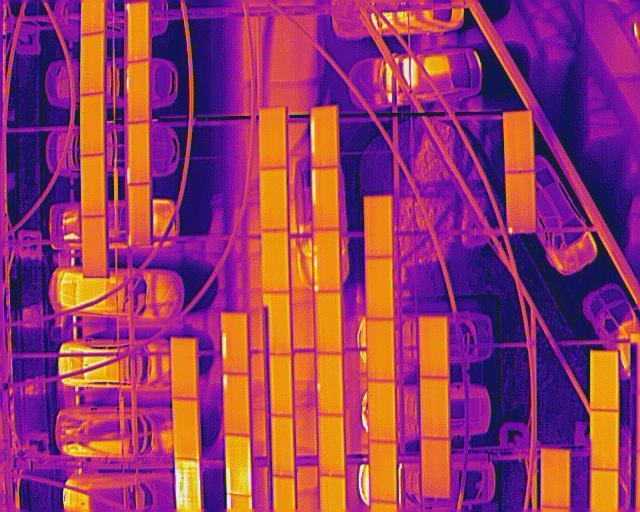Cell: (506, 173, 536, 233), (317, 350, 344, 416)
No-Anomaly: (366, 319, 397, 382), (503, 111, 535, 172), (364, 196, 395, 257), (540, 448, 571, 509), (590, 408, 619, 472), (419, 316, 449, 377), (421, 377, 450, 440), (366, 256, 395, 319), (260, 168, 289, 231), (317, 414, 346, 477), (262, 229, 290, 294), (259, 108, 288, 169), (370, 441, 398, 504), (173, 397, 201, 460), (590, 352, 619, 412), (80, 154, 107, 218), (368, 381, 396, 442), (316, 291, 343, 354), (267, 291, 292, 357), (82, 216, 109, 277), (423, 437, 450, 498), (80, 93, 106, 156), (270, 353, 295, 418), (271, 414, 296, 478), (172, 338, 197, 400), (128, 182, 152, 245), (81, 32, 105, 95), (127, 60, 150, 122), (127, 1, 150, 61)
Unclassified: (313, 228, 342, 292), (223, 370, 250, 438), (311, 106, 340, 169), (221, 313, 249, 375), (225, 432, 252, 496), (312, 169, 340, 230), (174, 459, 202, 512), (127, 122, 150, 185)
